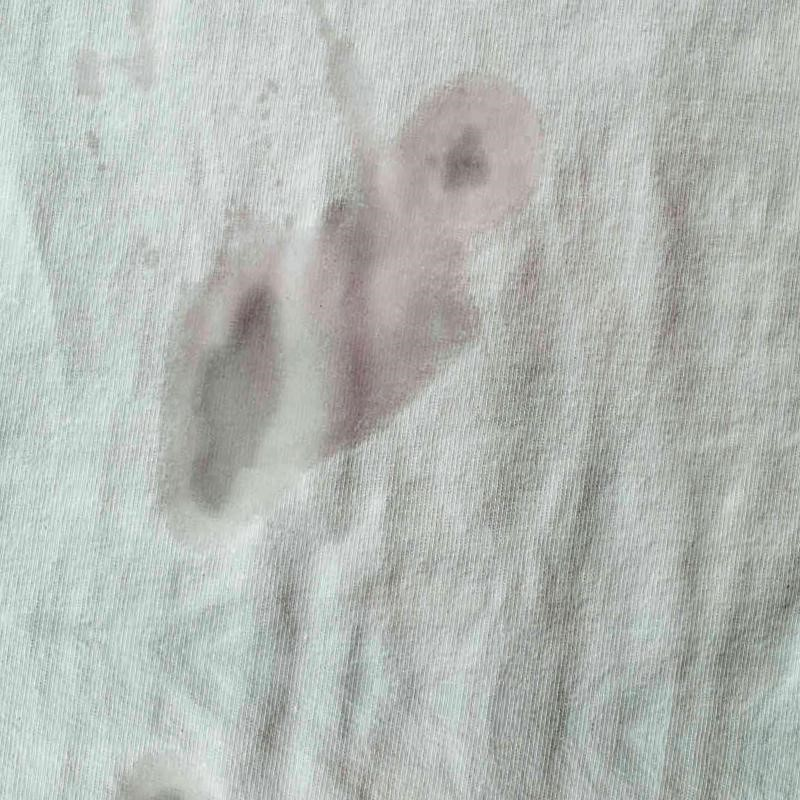stain: (155, 55, 570, 558)
